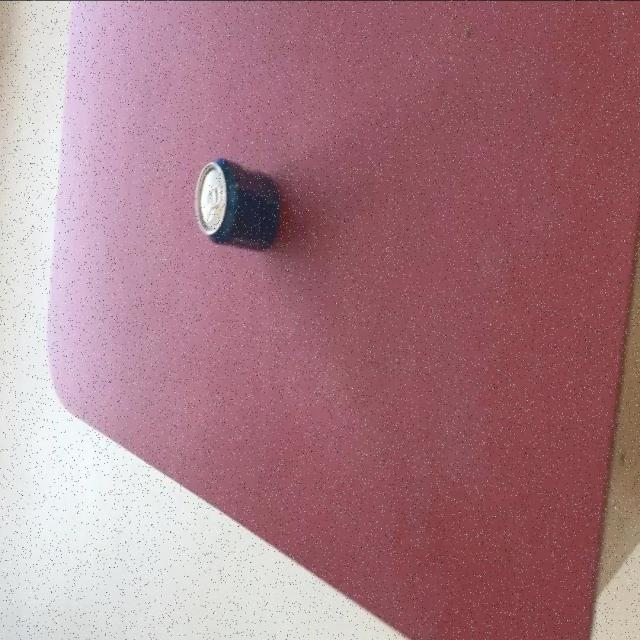Tonic: (193, 158, 279, 254)
